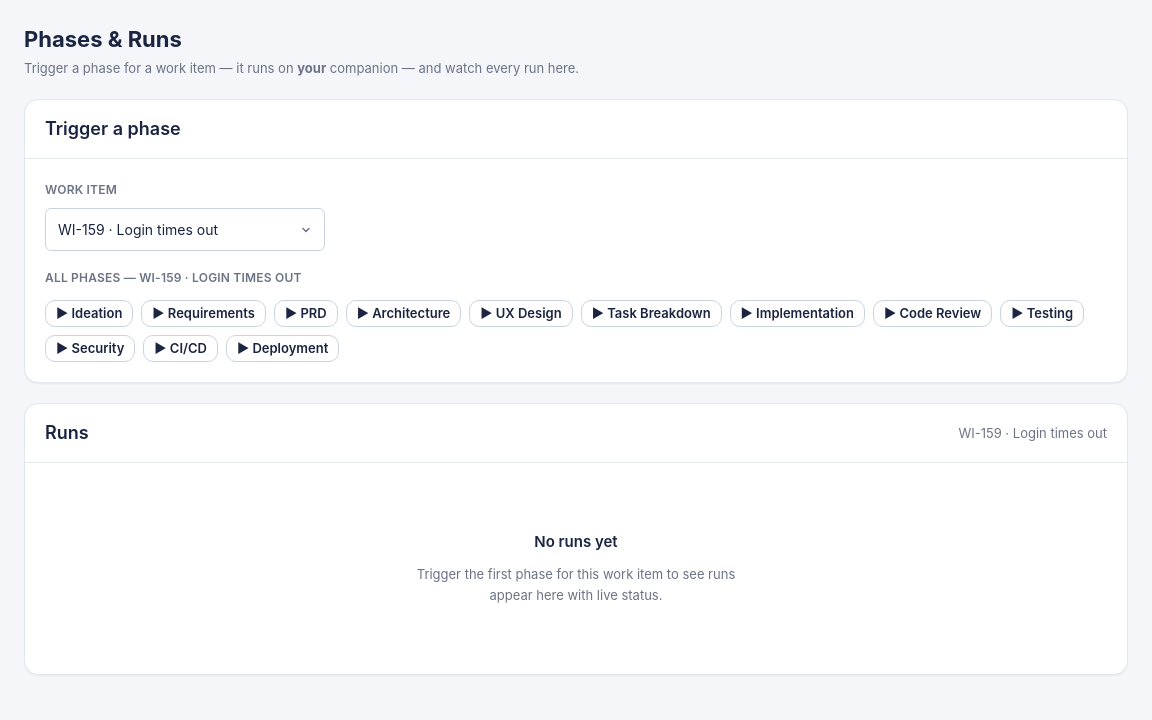
Test: Phases & Runs › asks before starting a phase that has never run
Check: the text "All phases — WI-159 · Login times out" is shown, box left=45, top=270, right=302, bottom=285
Click the button "▶ Task Breakdown": x=651, y=314 left=581, top=300, right=722, bottom=327
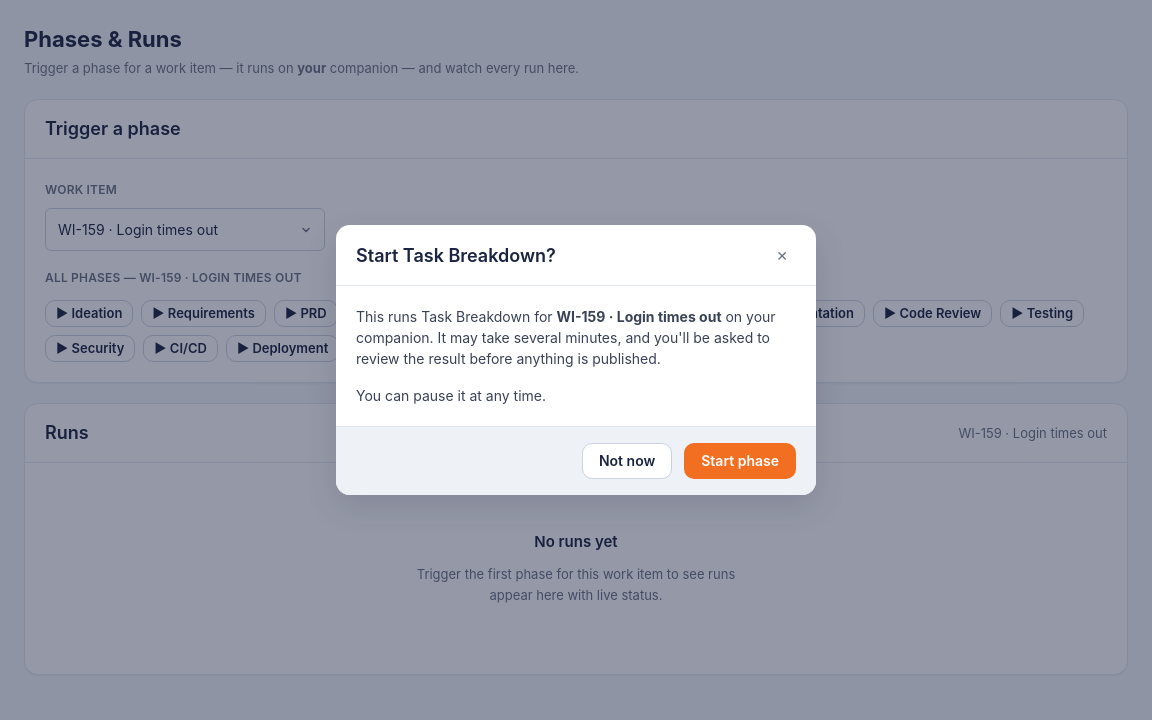
Check: the text "on your companion" is shown, box left=356, top=308, right=776, bottom=367
